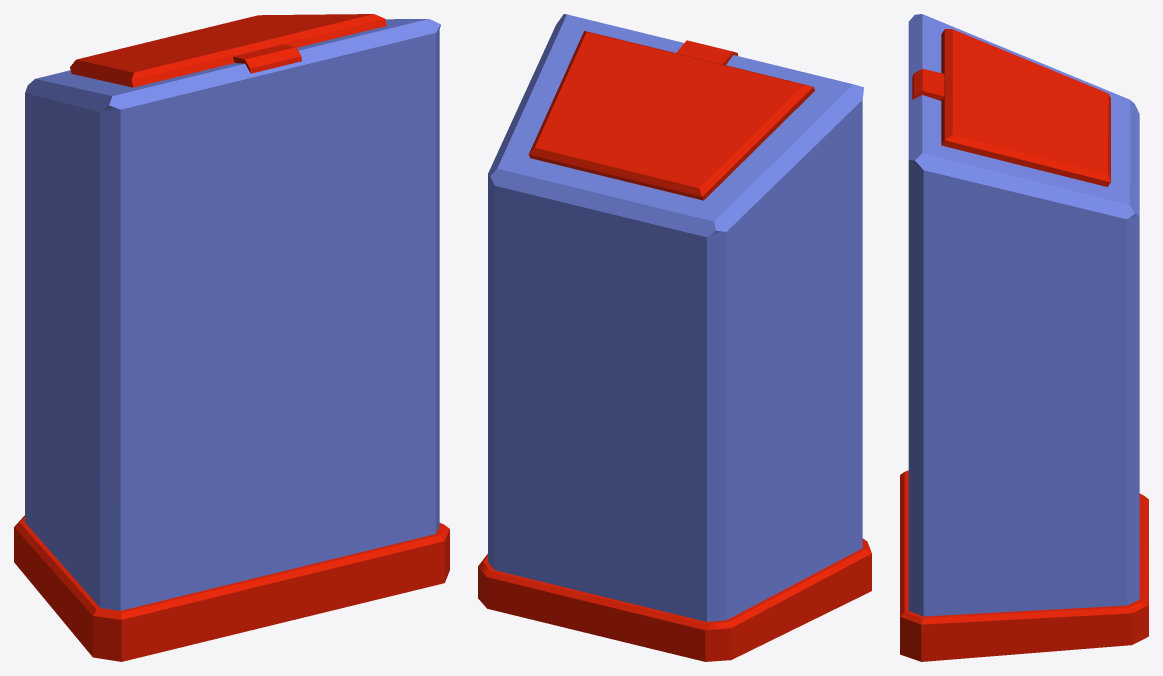
The model's file is normal_bin.fbx.
3 views of the same model, side by side, from view 1: azimuth 30°, elevation 25°; view 2: azimuth 150°, elevation 25°; view 3: azimuth 270°, elevation 25° (orthographic). The views are drawn at different scales.
Parts seen in each view (by area): view 1: Cafeteria_Trash_Can; view 2: Cafeteria_Trash_Can; view 3: Cafeteria_Trash_Can.
Part boxes in pixels (left/top/right/bottom): Cafeteria_Trash_Can: left=14, top=14, right=449, bottom=661; Cafeteria_Trash_Can: left=478, top=14, right=871, bottom=661; Cafeteria_Trash_Can: left=900, top=14, right=1148, bottom=661.
Bounding box in the file's own units: 0.4372 × 0.6554 × 0.2934.
